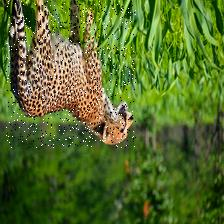Cheetha: (6, 0, 136, 148)
